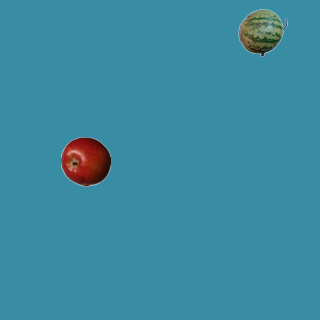Apple Braeburn: (60, 136, 110, 186)
Watermelon: (237, 7, 287, 57)
